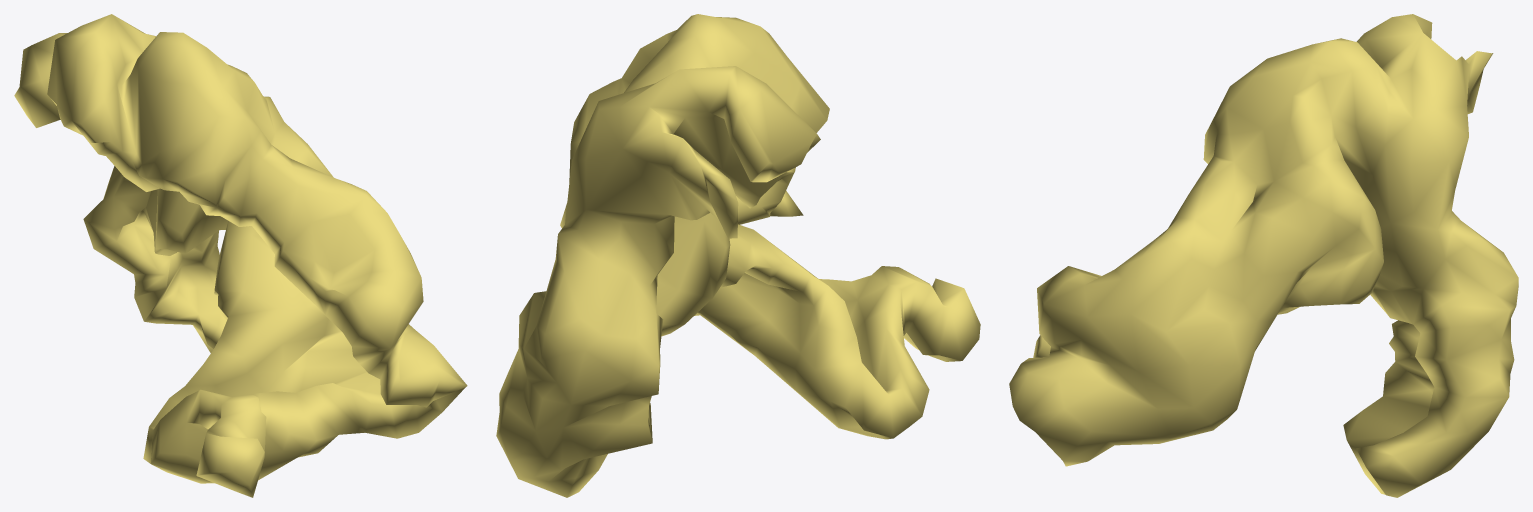
File: supramarginal-gyrus-l.glb
3 views of the same model, side by side, from view 1: azimuth 30°, elevation 25°; view 2: azimuth 150°, elevation 25°; view 3: azimuth 270°, elevation 25° (orthographic). The views are drawn at different scales.
Visible parts, largest first — view 1: Supramarginal gyrus.l; view 2: Supramarginal gyrus.l; view 3: Supramarginal gyrus.l.
Part boxes in pixels (box(x1,y1,x2,y2)): Supramarginal gyrus.l: box(14, 14, 467, 497); Supramarginal gyrus.l: box(496, 14, 980, 497); Supramarginal gyrus.l: box(1009, 14, 1518, 497).
Size of the model in its own units: 0.0302 by 0.044 by 0.049.
